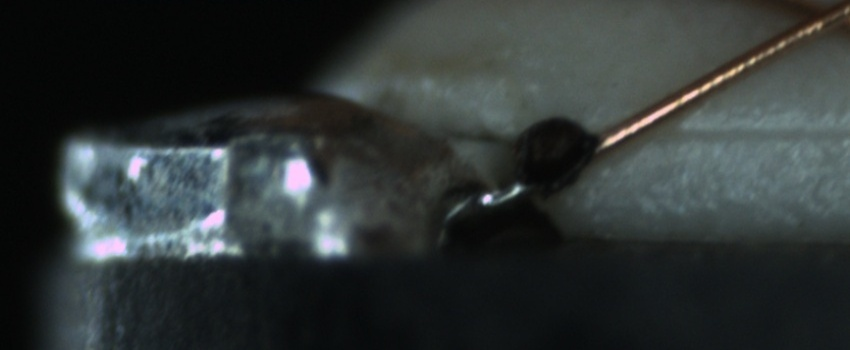CL: (776, 0, 849, 45)
DL: (656, 98, 849, 164)
